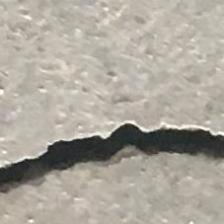Crack: (0, 112, 224, 194)
